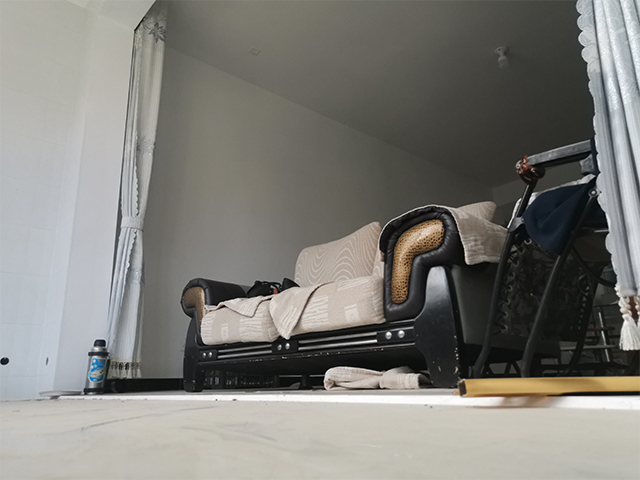curtain: (102, 1, 169, 380), (576, 1, 640, 352)
sofa: (178, 199, 532, 394)
